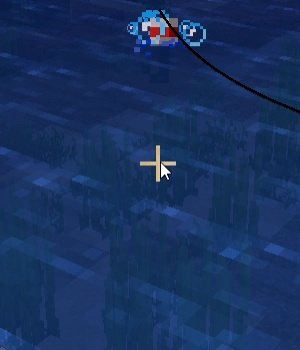up: (139, 11, 179, 79)
